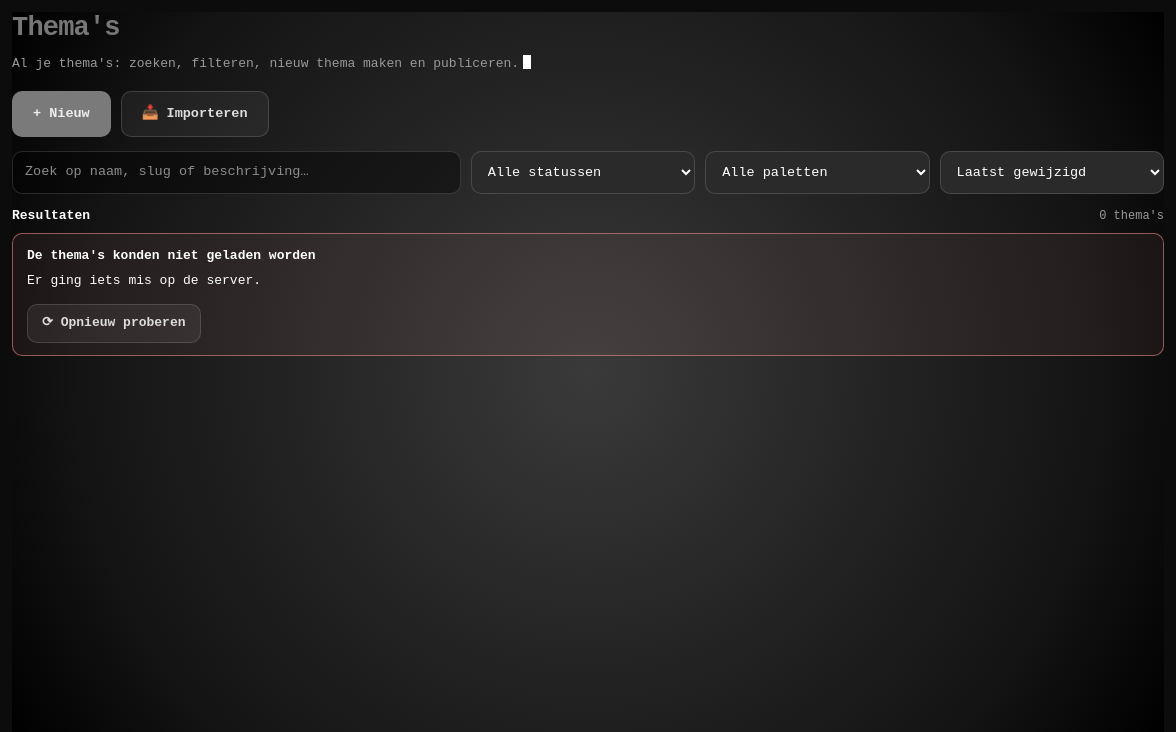
it: ThemesPage › toont een fout met opnieuw proberen
Expected: the text "De thema's konden niet geladen worden" is shown, [27,248,316,263]
Click the button "⟳ Opnieuw proberen": (114, 323) [27,304,200,343]
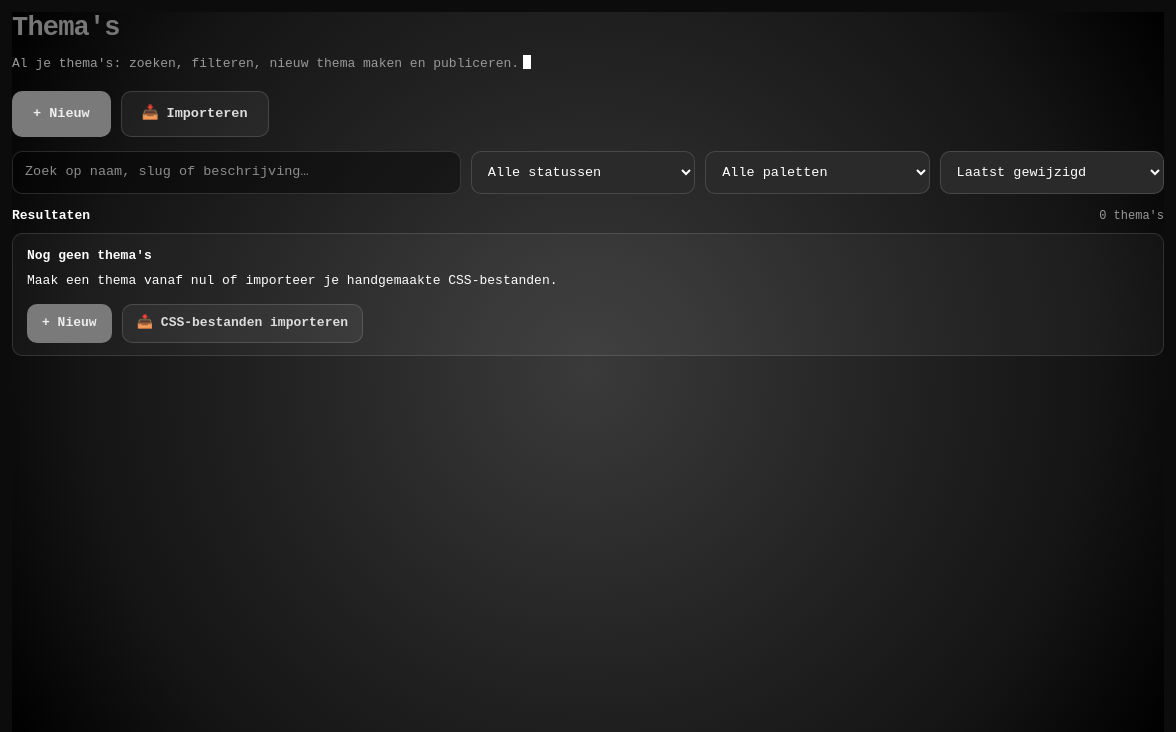
Now the text "Nog geen thema's" is shown, box [27,248,152,263]
